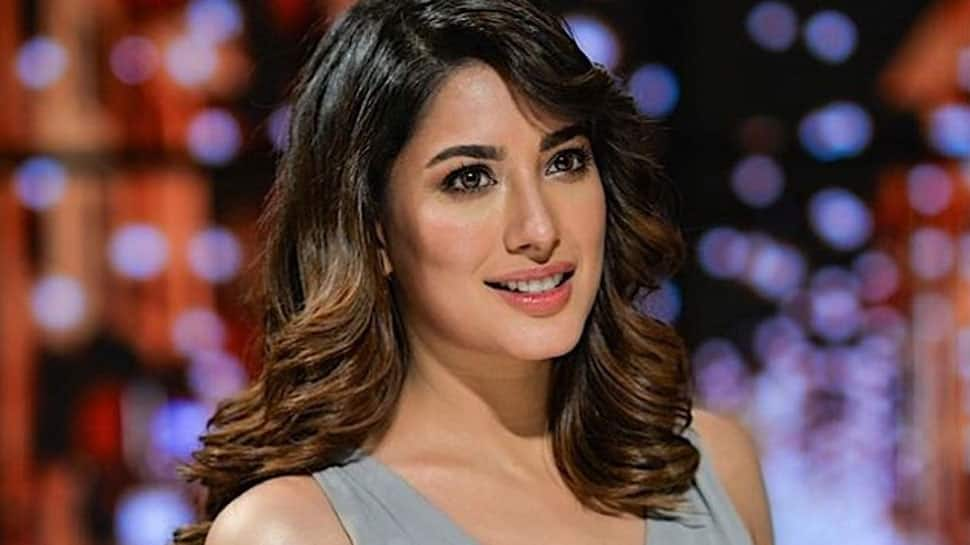NoMask: (421, 119, 601, 358)
